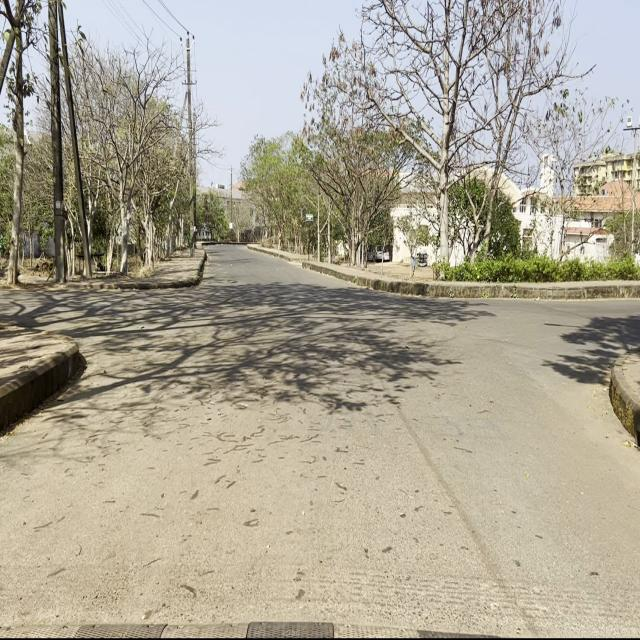Road: (2, 247, 639, 633)
